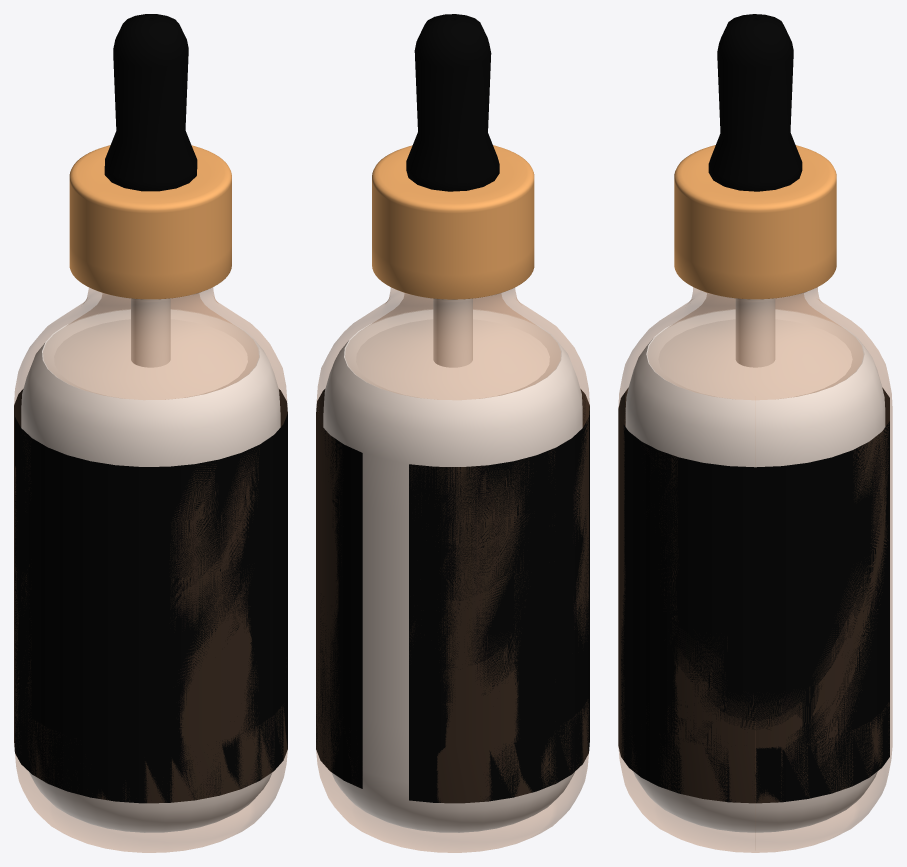
Rendered from Dropper_12345_file.glb.
The picture shows the model from 3 angles, left to right: view 1: azimuth 30°, elevation 25°; view 2: azimuth 150°, elevation 25°; view 3: azimuth 270°, elevation 25°; orthographic projection.
Parts seen in each view (by area): view 1: Label, Bottle.001, liquid, TOP_LID, Rubber_pump, Glass_dropper; view 2: Bottle.001, Label, liquid, TOP_LID, Rubber_pump, Glass_dropper; view 3: Label, Bottle.001, liquid, TOP_LID, Rubber_pump, Glass_dropper.
Boxes of the visible parts, x1,y1,x2,y2 form: Label: (14,389,287,803); Bottle.001: (14,287,287,852); liquid: (21,309,280,832); TOP_LID: (69,145,231,299); Rubber_pump: (104,14,197,191); Glass_dropper: (131,298,170,367); Bottle.001: (316,287,589,852); Label: (316,389,589,803); liquid: (323,309,582,832); TOP_LID: (372,145,534,299); Rubber_pump: (406,14,499,191); Glass_dropper: (433,298,472,367); Label: (618,387,889,803); Bottle.001: (618,287,892,852); liquid: (625,309,885,832); TOP_LID: (674,145,836,299); Rubber_pump: (708,14,802,191); Glass_dropper: (735,298,775,367).
Size of the model in its own units: 2.32 by 7.37 by 2.32.
